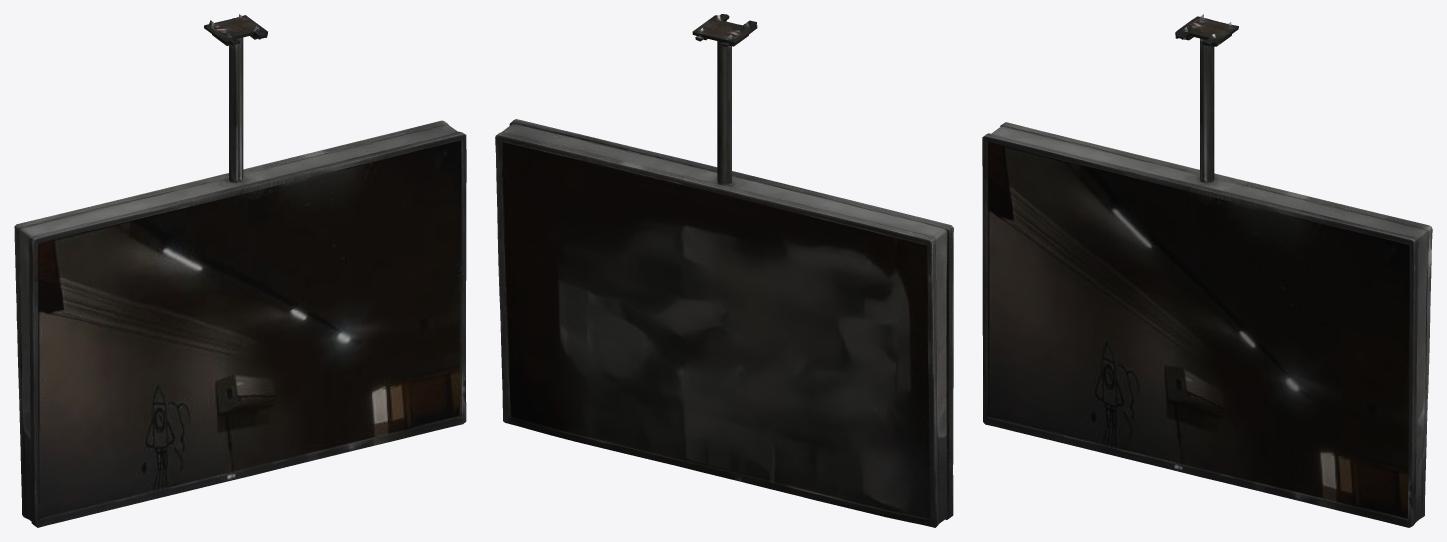
The picture shows the model from 3 angles, left to right: view 1: azimuth 30°, elevation 25°; view 2: azimuth 150°, elevation 25°; view 3: azimuth 330°, elevation 25°; orthographic projection.
Visible parts, largest first — view 1: model; view 2: model; view 3: model.
Boxes of the visible parts, x1,y1,x2,y2 form: model: [14, 14, 466, 527]; model: [495, 14, 953, 527]; model: [982, 14, 1432, 527].
Bounding box in the file's own units: 1.02 × 1 × 0.1151.
1 material, 1 textured.
